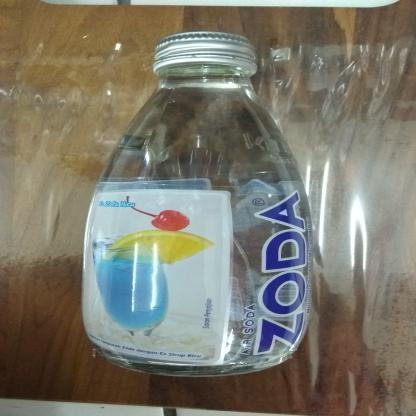bottle: (71, 31, 309, 377)
